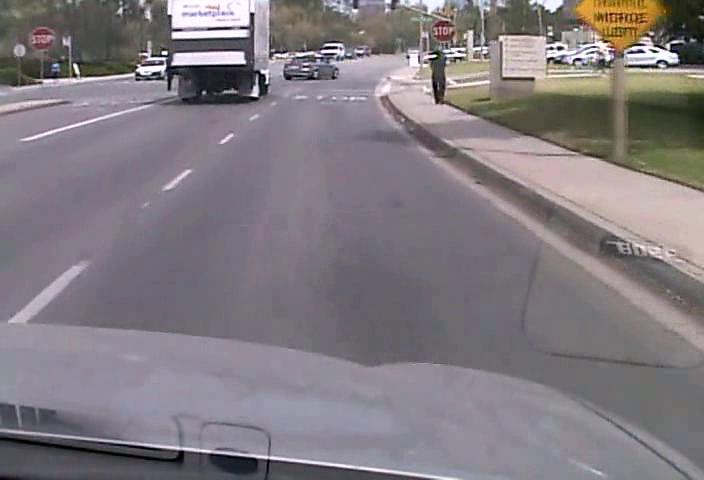stop: (432, 19, 455, 42)
